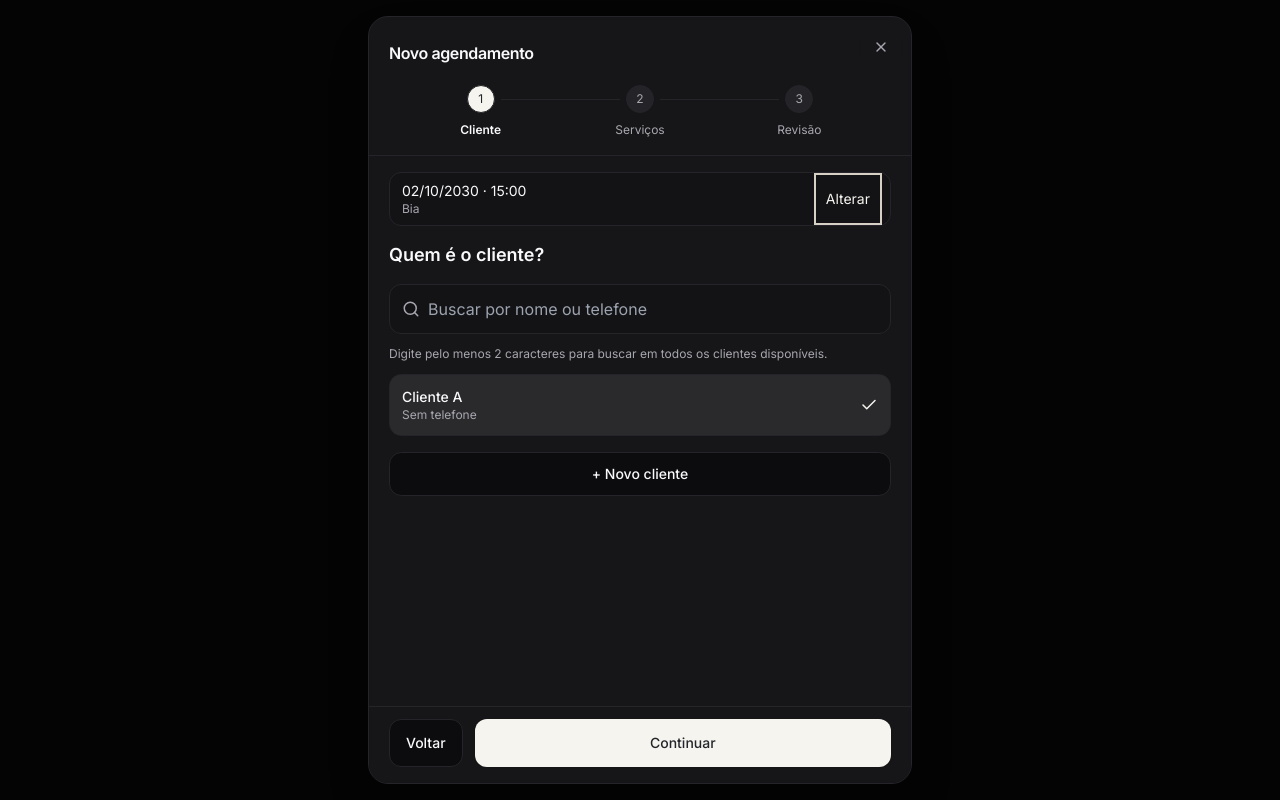
it: prefilled new-appointment form › without a prefill nothing is preselected
Click the button "Continuar".
click(683, 743)  # box [475, 719, 891, 767]
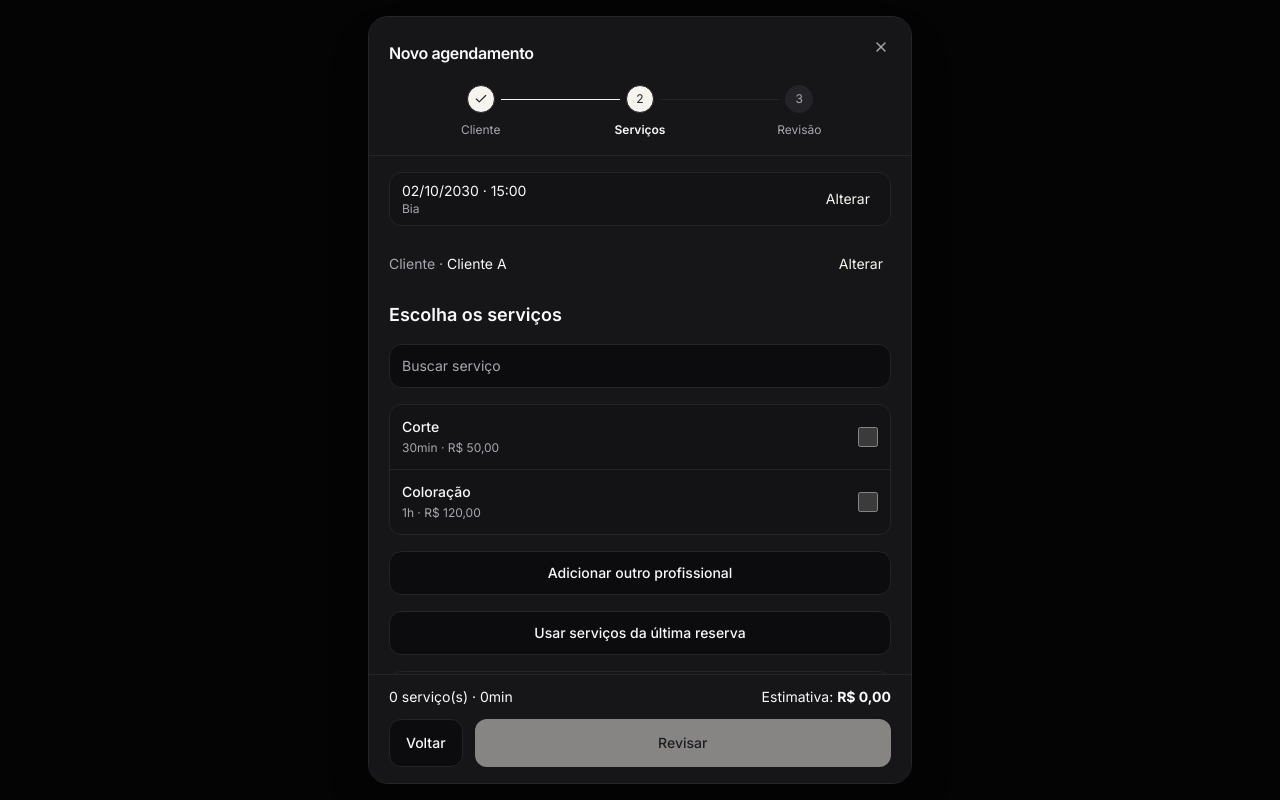
Expected: the checkbox labelled "Coloração 1h · R$ 120,00" is not checked, [858, 492, 878, 512]
